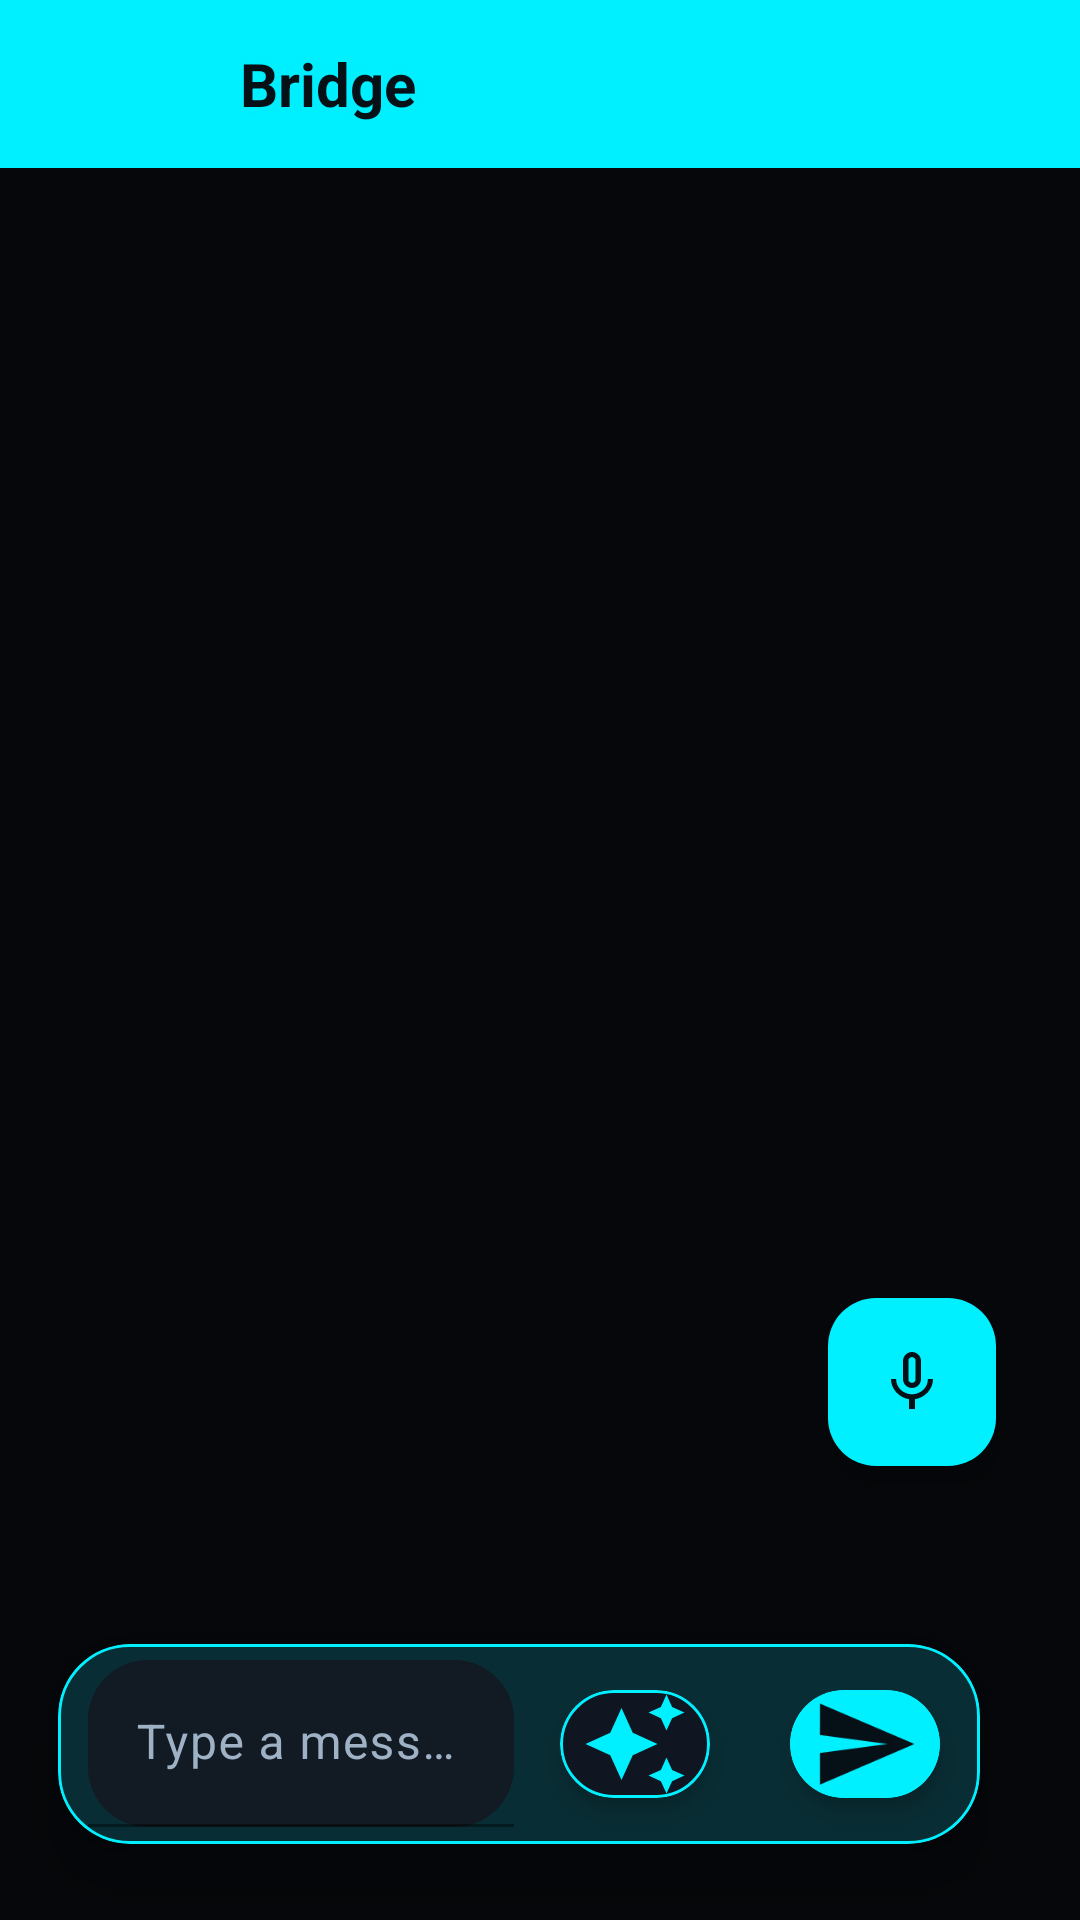

Icon bounding boxes for this 1080px×1920px phone screenshot, format [left=x1, top=y1, right=x2, bottom=y2]:
AI Reply: [left=560, top=1690, right=710, bottom=1798]
mic: [left=828, top=1298, right=996, bottom=1466]
send: [left=790, top=1690, right=940, bottom=1798]
